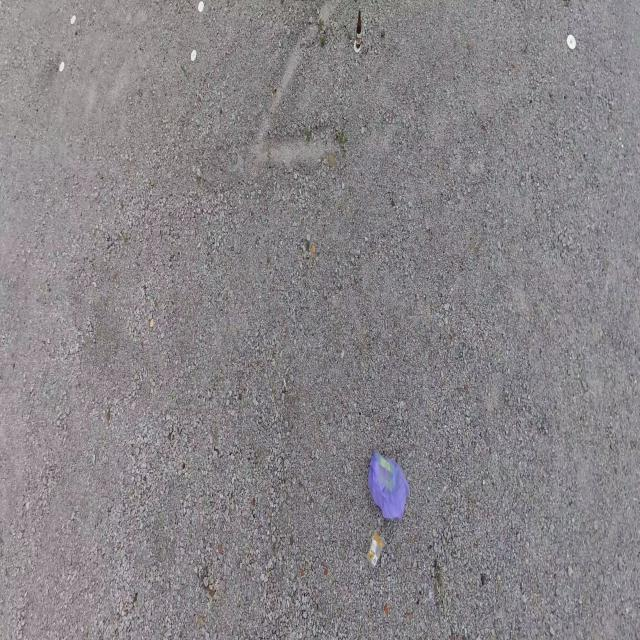rubbish: (367, 451, 410, 522), (367, 528, 384, 569), (355, 12, 362, 48)
